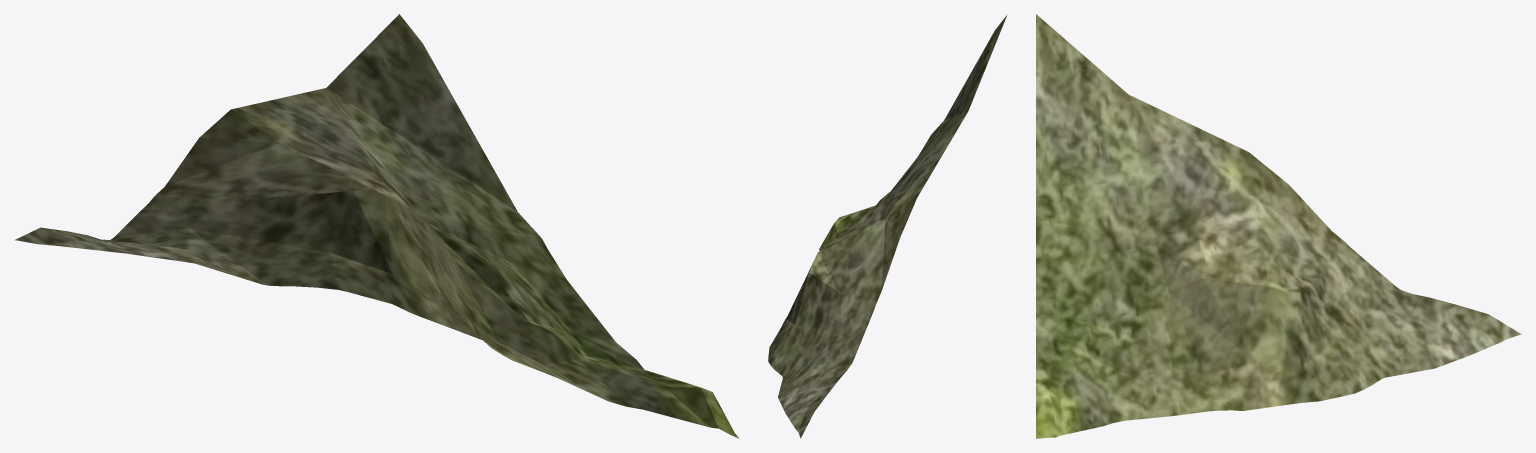
3 views of the same model, side by side, from view 1: azimuth 30°, elevation 25°; view 2: azimuth 150°, elevation 25°; view 3: azimuth 270°, elevation 25° (orthographic). The views are drawn at different scales.
Size of the model in its own units: 1.17 by 1.67 by 2.3.
Materials: 1 (1 with a texture image).
